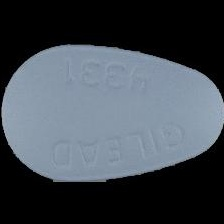61958-0401: (0, 0, 224, 224)
